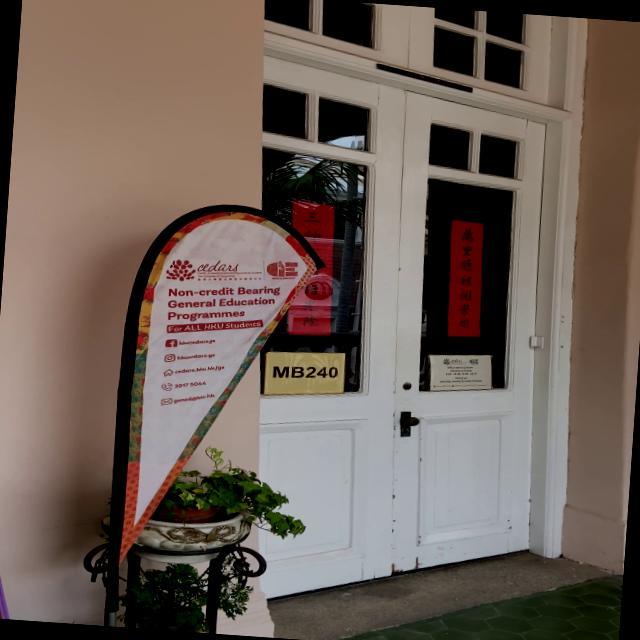room240: (270, 356, 342, 388)
